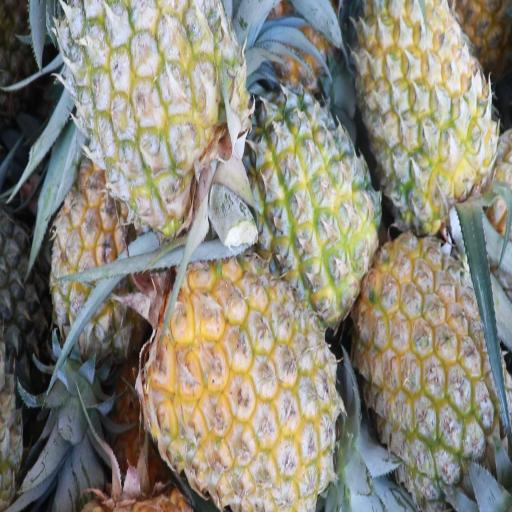------------------------------: (63, 0, 243, 217), (252, 89, 373, 311), (50, 169, 146, 359)
Pineapple - v8 v1: (156, 261, 334, 502), (369, 232, 503, 488), (358, 0, 495, 214)
